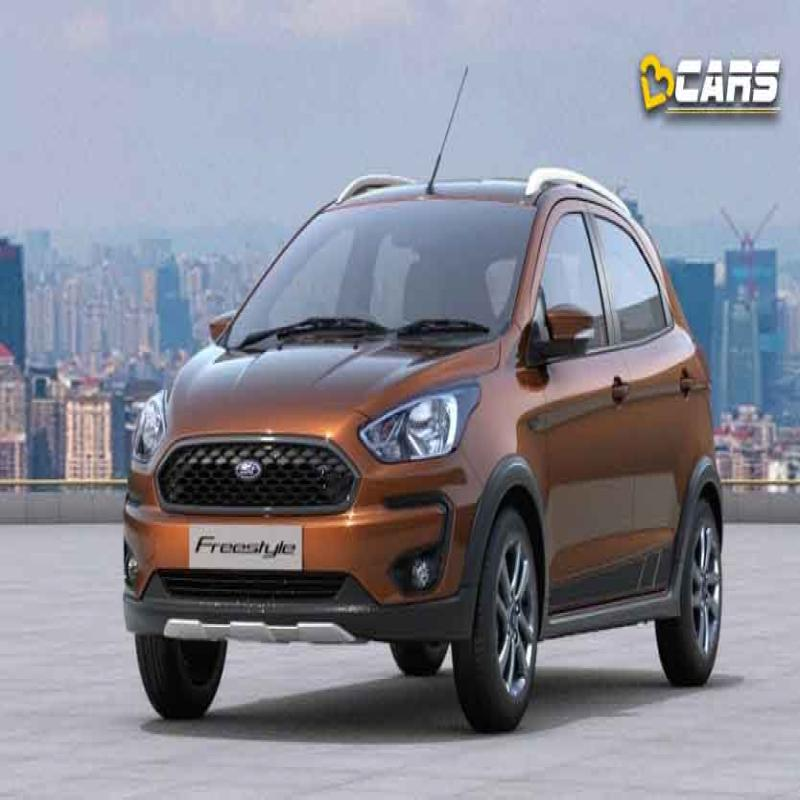car: (116, 154, 742, 710)
